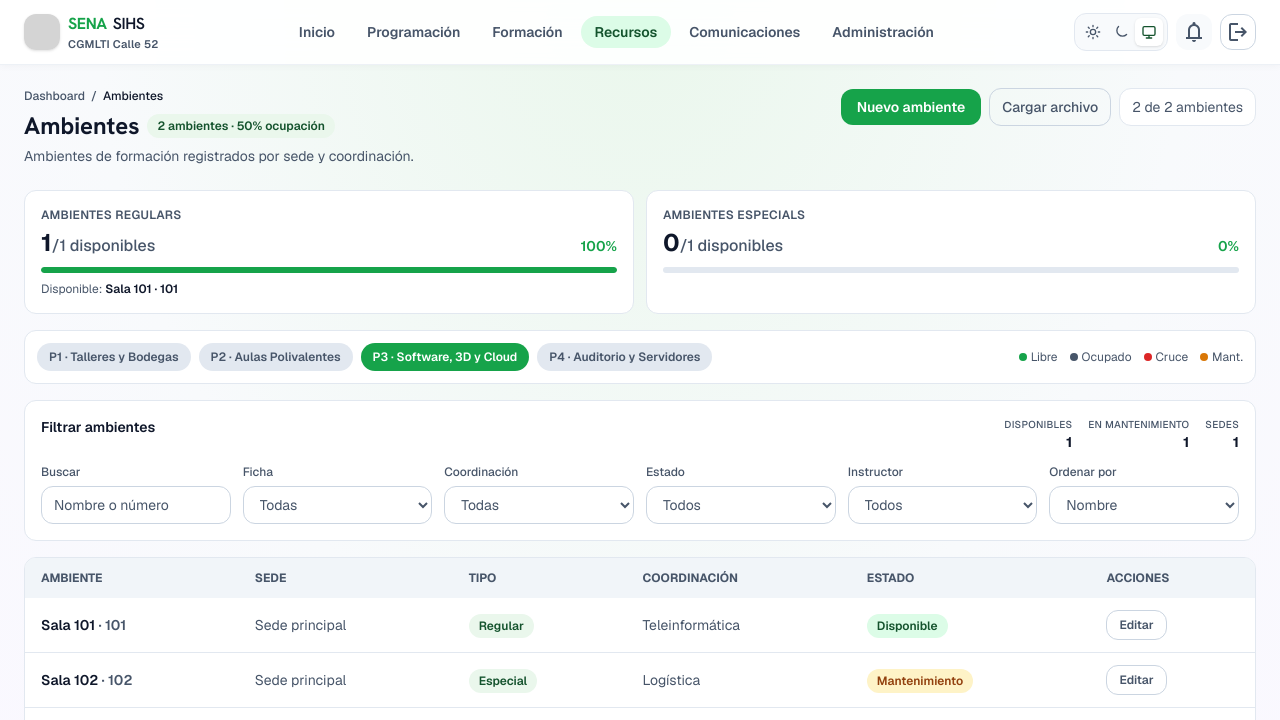
it: Ambientes › muestra fichas/instructores/temas derivados de los horarios del ambiente
This screenshot has width=1280, height=720.
Expected: the text "Sala 101" is shown, left=41, top=616, right=95, bottom=634
Step 1. Click the text "Sala 101" → [68, 625], box left=25, top=598, right=239, bottom=652
(page scrolled)
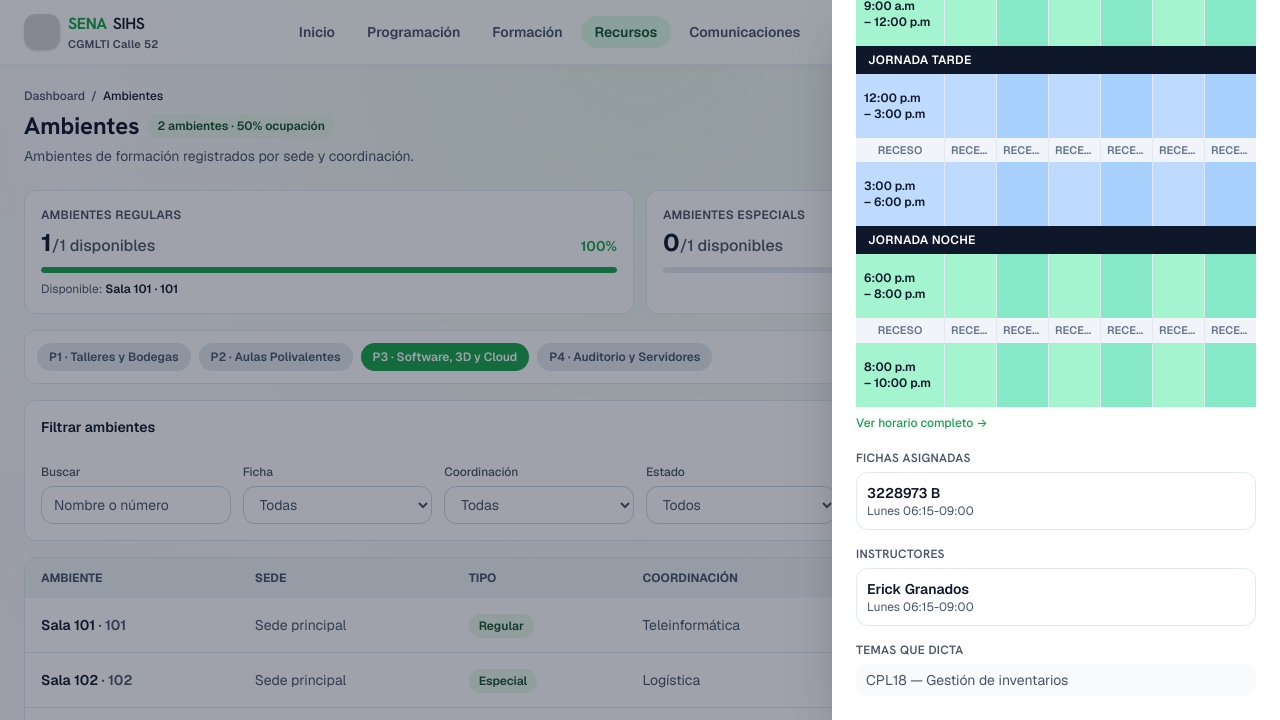
Expected: the heading "Fichas asignadas" is shown, left=856, top=450, right=971, bottom=466
Expected: the heading "Instructores" is shown, left=856, top=546, right=945, bottom=562
Expected: the heading "Temas que dicta" is shown, left=856, top=642, right=963, bottom=658
